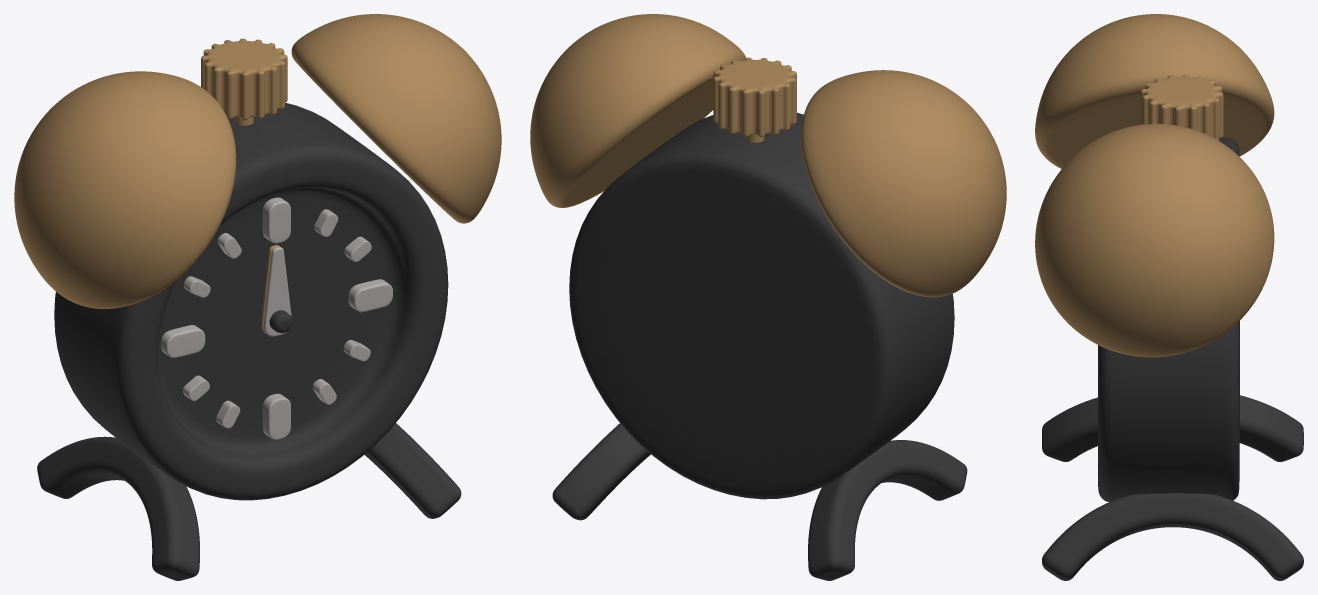
File: alert-animated-3d-icon-966251917181.glb
3 renders of one model, left to right at view 1: azimuth 30°, elevation 25°; view 2: azimuth 150°, elevation 25°; view 3: azimuth 270°, elevation 25°, orthographic. The views are drawn at different scales.
Parts seen in each view (by area): view 1: Base.002, Upper.001, Stand.001, Button 1.002, Numbers A.002, Numbers B.002, Minute Pin.002; view 2: Base.002, Upper.001, Stand.001, Button 1.002; view 3: Upper.001, Base.002, Stand.001, Button 1.002.
Part boxes in pixels (x1,y1,x2,y2): Base.002: (54,103,448,500); Upper.001: (14,14,501,308); Stand.001: (37,423,461,580); Button 1.002: (201,38,287,125); Numbers A.002: (161,197,392,439); Numbers B.002: (182,209,371,428); Minute Pin.002: (263,247,291,336); Base.002: (569,112,954,499); Upper.001: (530,14,1006,297); Stand.001: (552,423,967,580); Button 1.002: (713,57,796,142); Upper.001: (1035,14,1274,357); Base.002: (1098,137,1239,501); Stand.001: (1042,395,1303,580); Button 1.002: (1141,74,1223,140).
Bounding box in the file's own units: 2.72 × 2.64 × 1.46.
